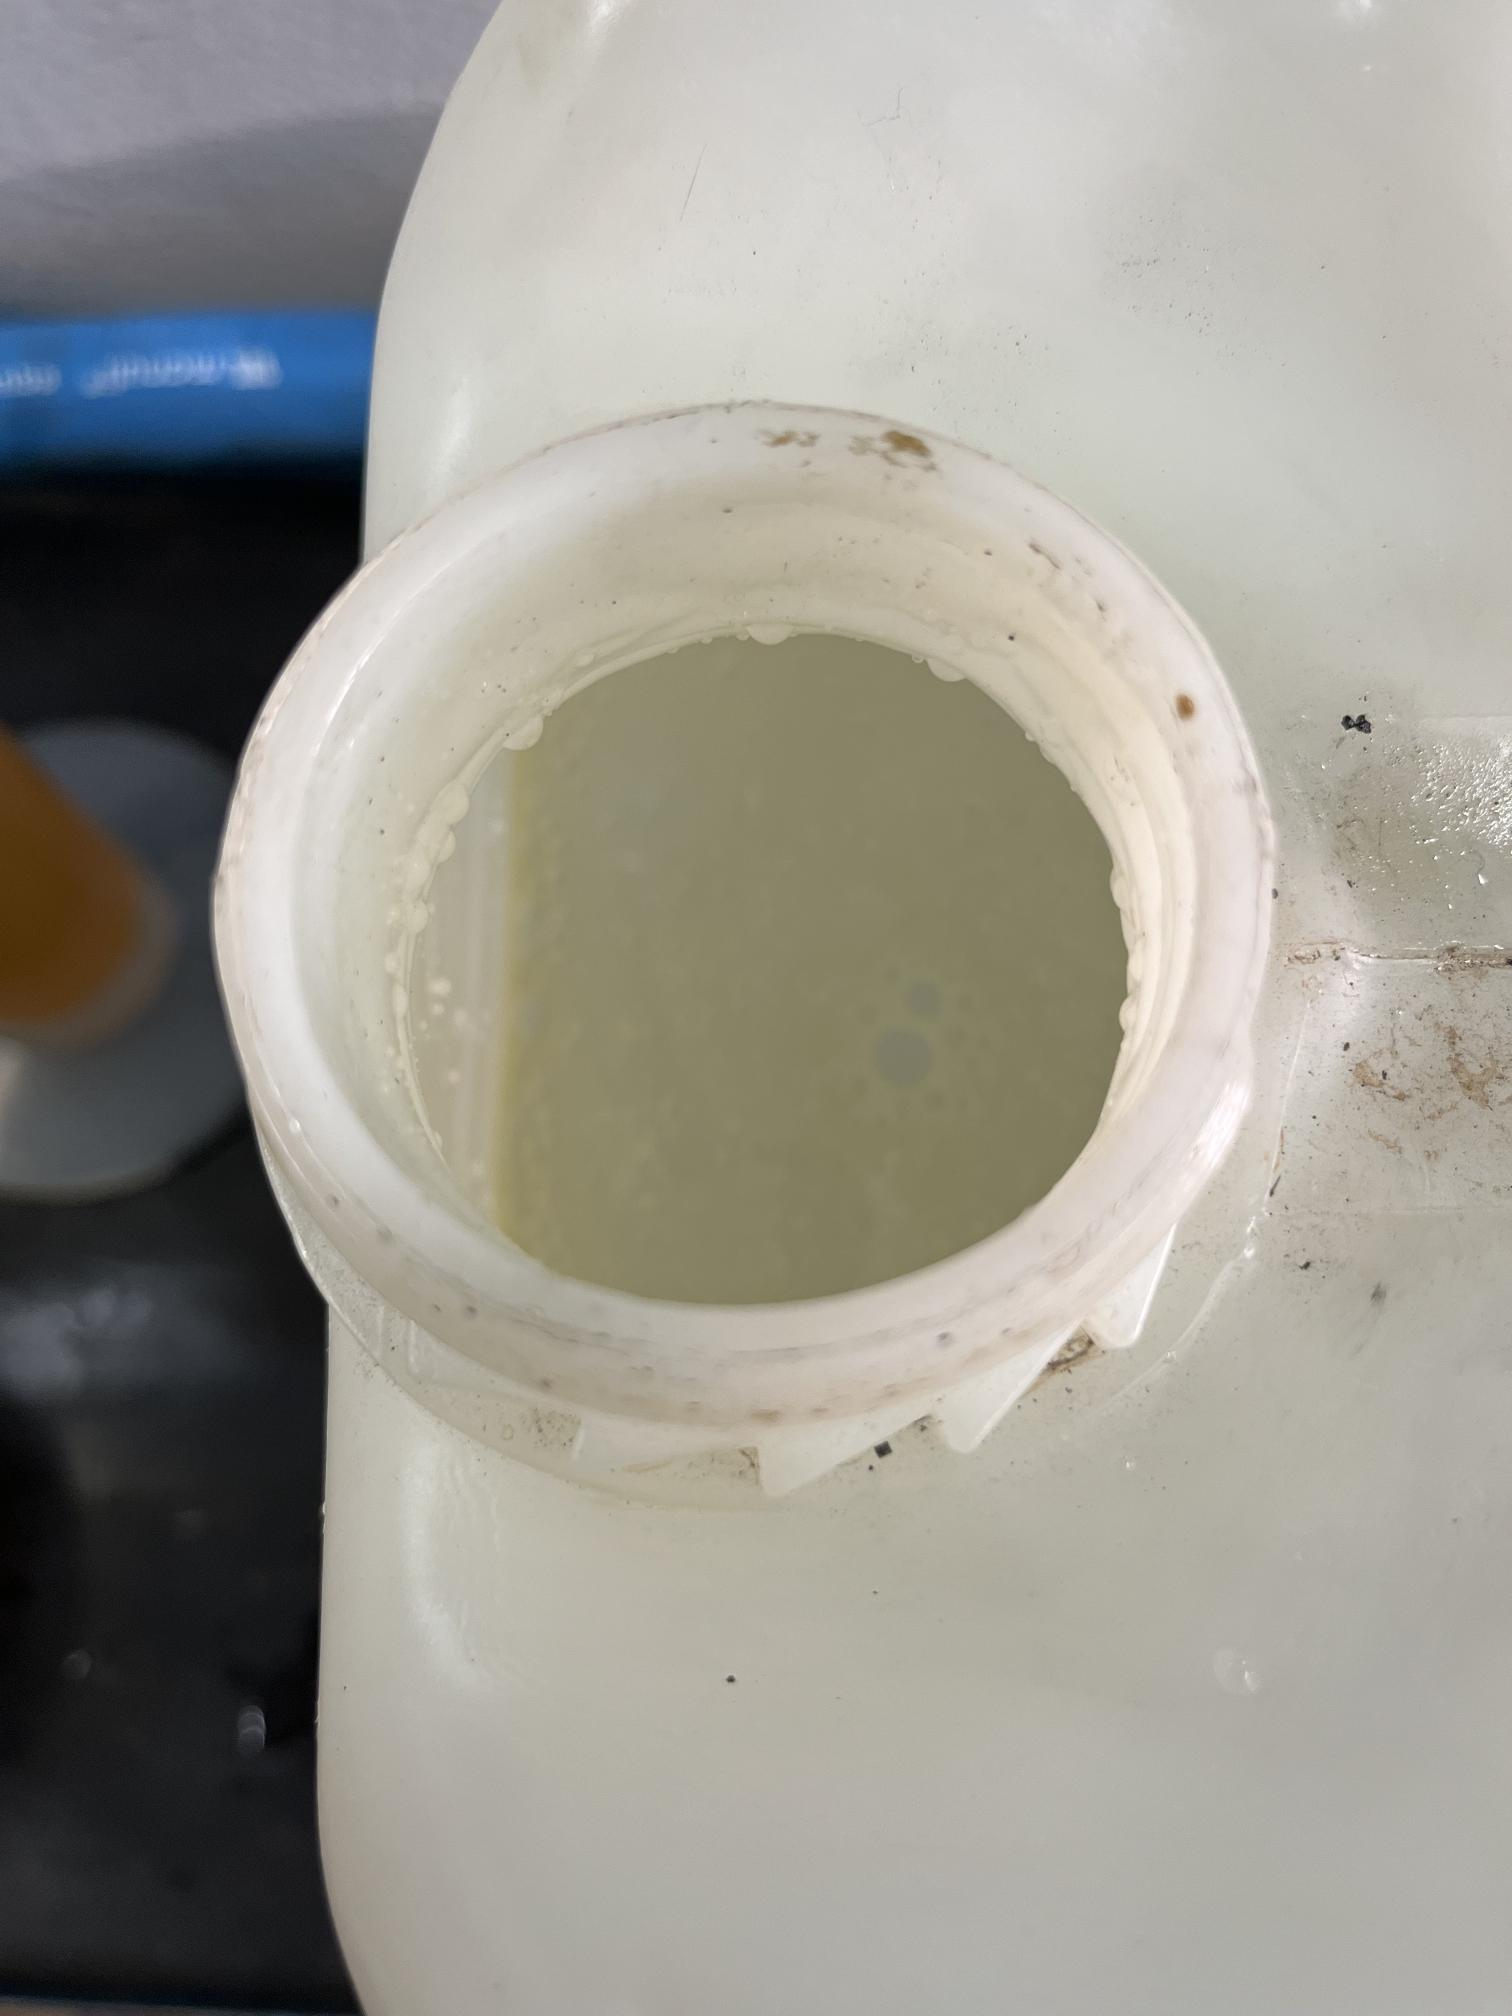Presenca de Oleo - - 170ml: (349, 570, 1205, 1360)
